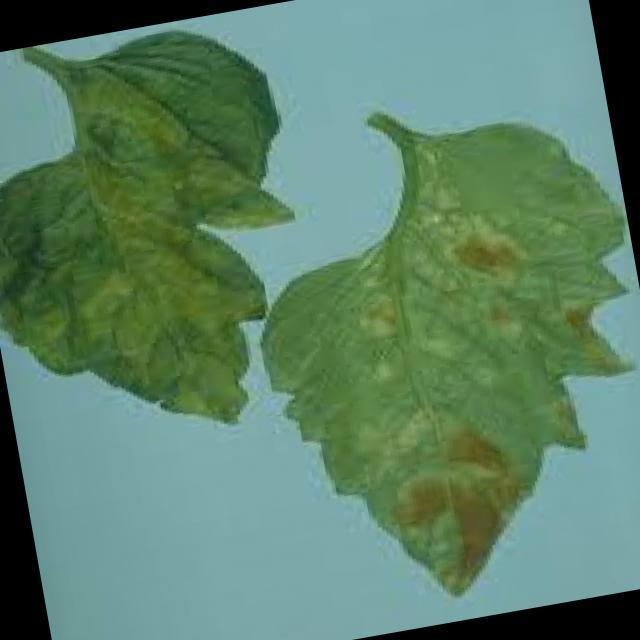Mosaic Virus: (332, 194, 640, 607), (5, 36, 282, 422)
